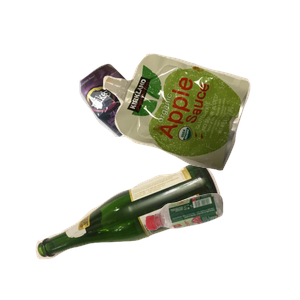glass: (33, 158, 246, 300)
metal: (77, 61, 222, 191)
plastic: (142, 191, 300, 300)
trash: (100, 51, 300, 214)
